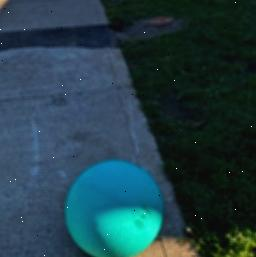algae: (72, 160, 161, 257)
